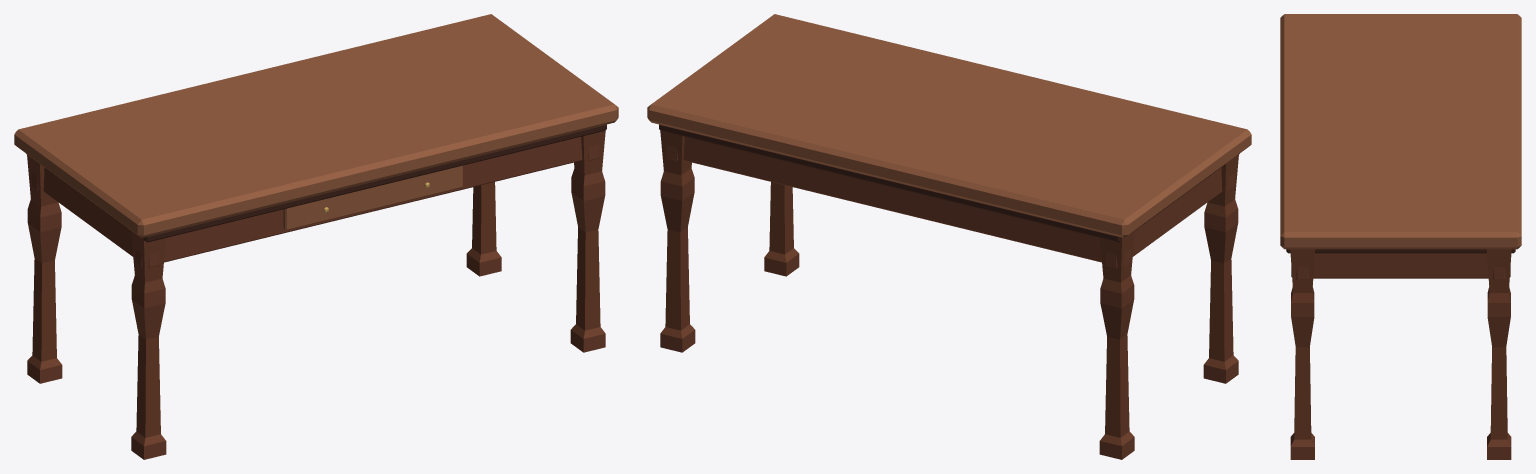
The model's file is vintage_writing_desk.glb.
3 views of the same model, side by side, from view 1: azimuth 30°, elevation 25°; view 2: azimuth 150°, elevation 25°; view 3: azimuth 270°, elevation 25° (orthographic). The views are drawn at different scales.
Visible parts, largest first — view 1: Top, Aprons, Leg_0_0, Leg_1_0, Leg_0_1, FrontDrawer, TopUndercut, Leg_1_1; view 2: Top, Aprons, Leg_0_1, Leg_1_1, Leg_0_0, TopUndercut, Leg_1_0; view 3: Top, Aprons, Leg_1_0, Leg_1_1, TopUndercut.
Boxes of the visible parts, bbox=[...] form: Top: bbox=[14, 14, 618, 237]; Aprons: bbox=[31, 137, 599, 267]; Leg_0_0: bbox=[131, 230, 166, 459]; Leg_1_0: bbox=[570, 130, 605, 352]; Leg_0_1: bbox=[27, 154, 62, 383]; FrontDrawer: bbox=[283, 165, 462, 230]; TopUndercut: bbox=[26, 124, 606, 242]; Leg_1_1: bbox=[466, 182, 501, 276]; Top: bbox=[647, 14, 1251, 237]; Aprons: bbox=[666, 137, 1234, 267]; Leg_0_1: bbox=[1099, 230, 1134, 459]; Leg_1_1: bbox=[660, 130, 695, 352]; Leg_0_0: bbox=[1203, 154, 1238, 383]; TopUndercut: bbox=[659, 124, 1239, 242]; Leg_1_0: bbox=[764, 182, 799, 276]; Top: bbox=[1280, 14, 1521, 249]; Aprons: bbox=[1291, 253, 1510, 279]; Leg_1_0: bbox=[1290, 249, 1315, 459]; Leg_1_1: bbox=[1486, 249, 1511, 459]; TopUndercut: bbox=[1286, 249, 1515, 253].
Bounding box in the file's own units: 1.65 × 0.8 × 0.76.
